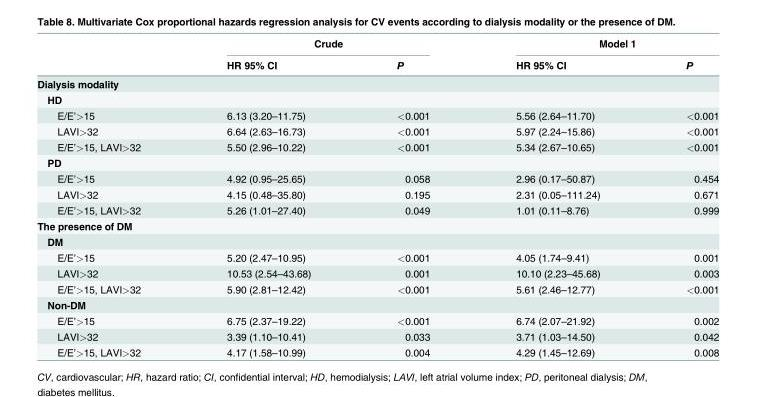table: (36, 36, 718, 357)
table column: (183, 36, 353, 357), (472, 36, 642, 357), (36, 36, 183, 357), (353, 36, 472, 357), (642, 36, 718, 357)
table column header: (36, 36, 718, 74)
table projected row header: (36, 74, 718, 91), (36, 91, 718, 107), (36, 154, 718, 170), (36, 217, 718, 233), (36, 233, 718, 249), (36, 296, 718, 312)
table row: (36, 53, 718, 74), (36, 36, 718, 53), (36, 74, 718, 91), (36, 91, 718, 107), (36, 107, 718, 123), (36, 138, 718, 154), (36, 154, 718, 170), (36, 170, 718, 186), (36, 186, 718, 202), (36, 217, 718, 233), (36, 233, 718, 249), (36, 249, 718, 265), (36, 265, 718, 281), (36, 296, 718, 312), (36, 312, 718, 328), (36, 328, 718, 344), (36, 123, 718, 138), (36, 202, 718, 217), (36, 281, 718, 296), (36, 344, 718, 357)
table spanning cell: (183, 36, 472, 53), (472, 36, 718, 53)
